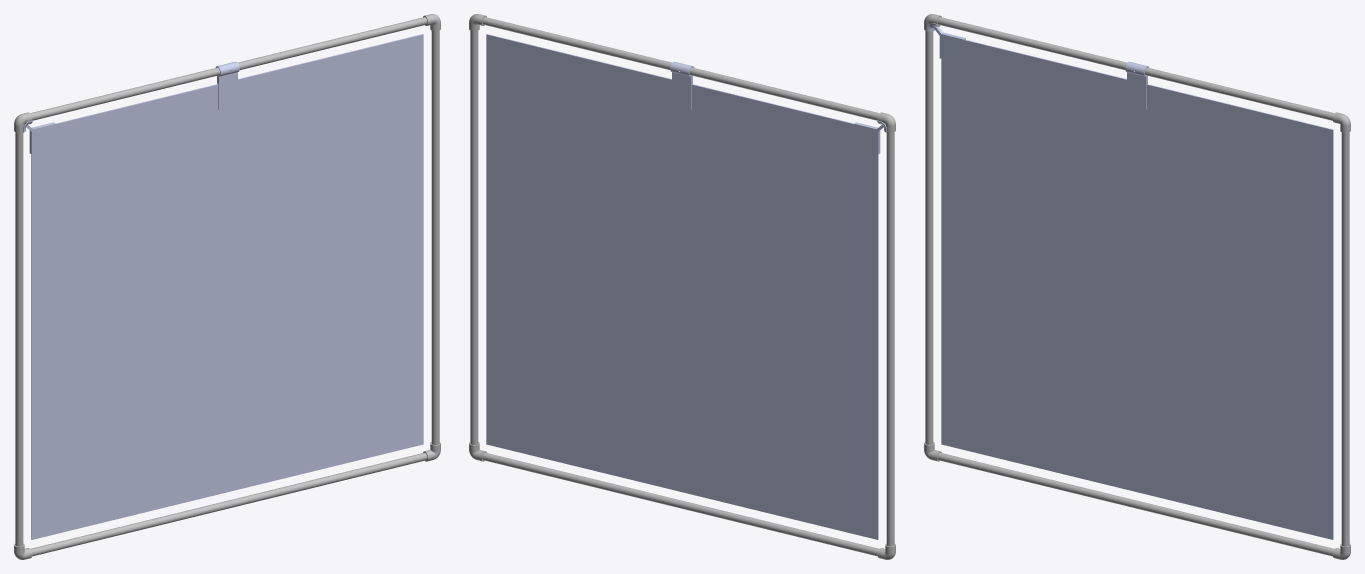
Rendered from buoy-4x4.fbx.
The picture shows the model from 3 angles, left to right: view 1: azimuth 30°, elevation 25°; view 2: azimuth 150°, elevation 25°; view 3: azimuth 330°, elevation 25°; orthographic projection.
Visible parts, largest first — view 1: Body_1, Body_1_2, Body_1_10, Body_1_6, Body_1_5, Body_1_8, Body_1_7; view 2: Body_1, Body_1_2, Body_1_10, Body_1_6, Body_1_5, Body_1_8, Body_1_7; view 3: Body_1, Body_1_10, Body_1_2, Body_1_6, Body_1_5, Body_1_8, Body_1_7.
Boxes of the visible parts, x1=… form: Body_1: x1=31, y1=34, x2=423, y2=539; Body_1_2: x1=15, y1=132, x2=23, y2=546; Body_1_10: x1=431, y1=30, x2=439, y2=444; Body_1_6: x1=30, y1=452, x2=427, y2=556; Body_1_5: x1=30, y1=17, x2=427, y2=120; Body_1_8: x1=215, y1=61, x2=239, y2=109; Body_1_7: x1=23, y1=120, x2=55, y2=154; Body_1: x1=486, y1=34, x2=878, y2=539; Body_1_2: x1=886, y1=132, x2=894, y2=546; Body_1_10: x1=470, y1=30, x2=478, y2=444; Body_1_6: x1=482, y1=452, x2=879, y2=556; Body_1_5: x1=482, y1=17, x2=879, y2=120; Body_1_8: x1=670, y1=61, x2=694, y2=109; Body_1_7: x1=854, y1=120, x2=886, y2=154; Body_1: x1=941, y1=39, x2=1333, y2=539; Body_1_10: x1=1341, y1=132, x2=1349, y2=546; Body_1_2: x1=925, y1=30, x2=933, y2=444; Body_1_6: x1=937, y1=452, x2=1334, y2=556; Body_1_5: x1=937, y1=17, x2=1334, y2=120; Body_1_8: x1=1125, y1=61, x2=1149, y2=109; Body_1_7: x1=927, y1=23, x2=965, y2=58.
Size of the model in its own units: 1.32 by 0.0342 by 1.32.
